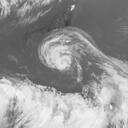cyclone: (37, 25, 85, 73)
